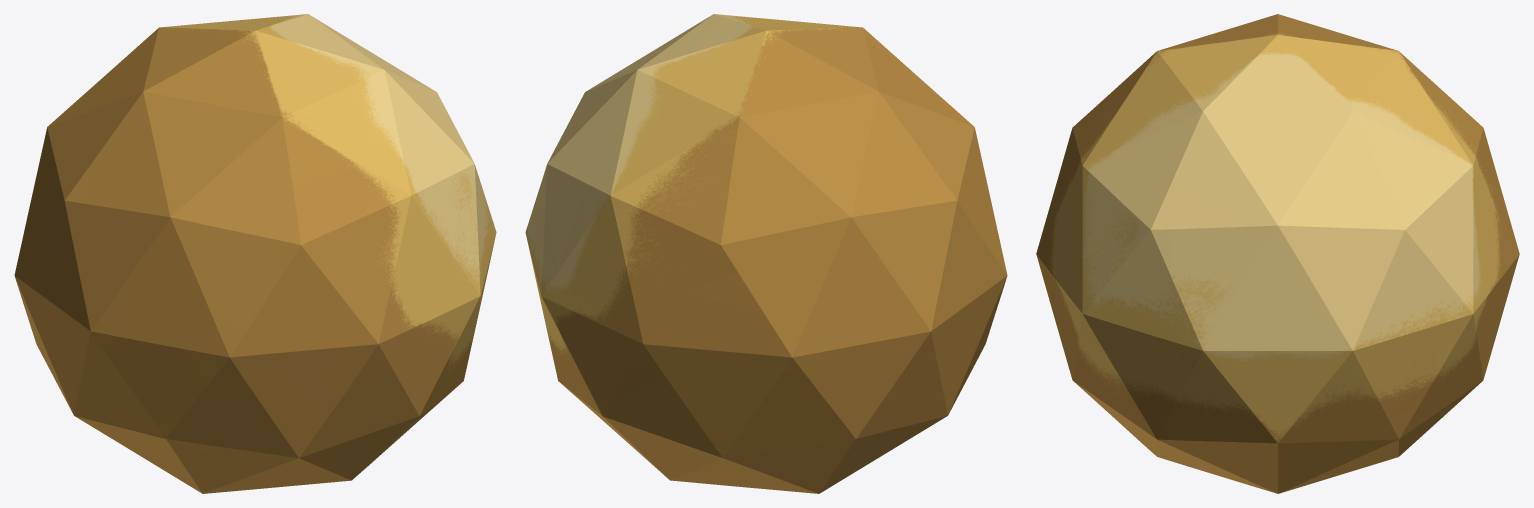
The model's file is power-pellet.glb.
3 renders of one model, left to right at view 1: azimuth 30°, elevation 25°; view 2: azimuth 150°, elevation 25°; view 3: azimuth 270°, elevation 25°, orthographic.
Visible parts, largest first — view 1: world; view 2: world; view 3: world.
Part boxes in pixels (x1=…): world: x1=14, y1=14, x2=496, y2=493; world: x1=525, y1=14, x2=1007, y2=493; world: x1=1036, y1=14, x2=1519, y2=493.
Bounding box in the file's own units: 0.5703 × 0.5997 × 0.6.
Materials: 1 (1 with a texture image).
